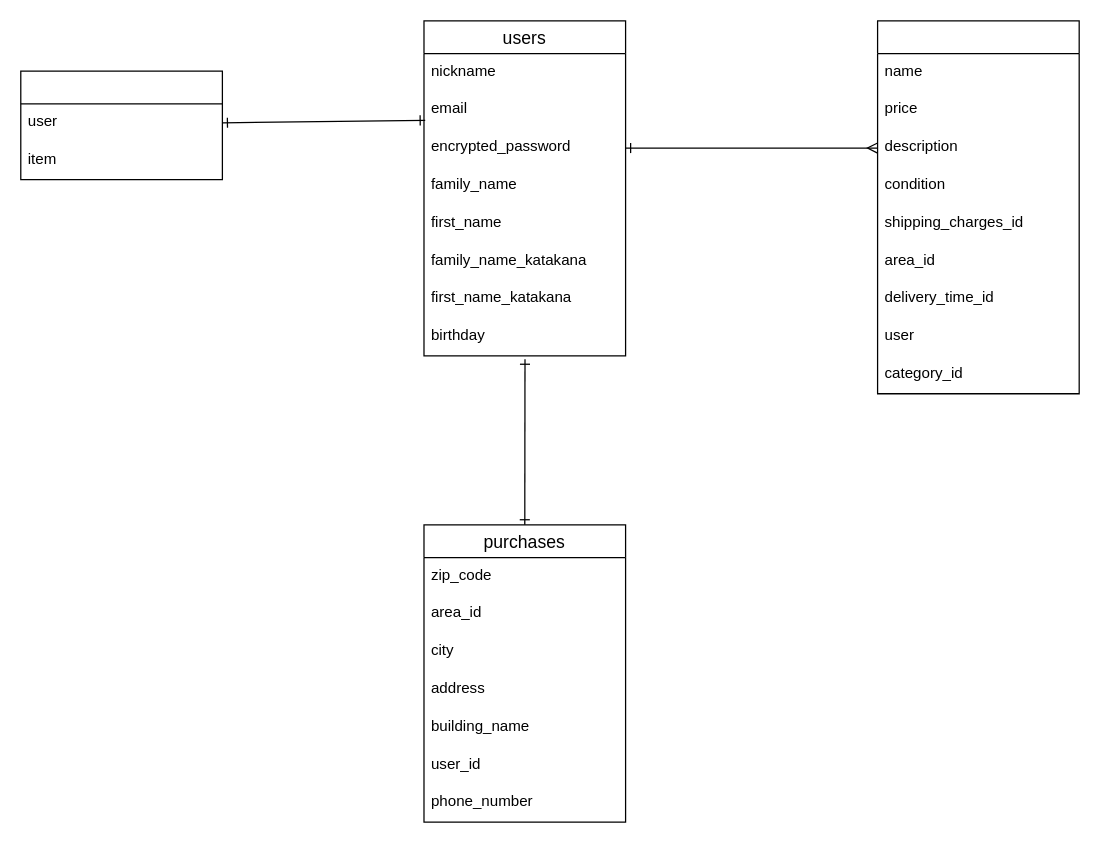
This 1100x843 diagram has some shape labels left out. The box of each missing label's shape, as (x1, y1, x2, y2) in pixels:
items: (876, 20, 1079, 394)
managements: (20, 70, 222, 180)
